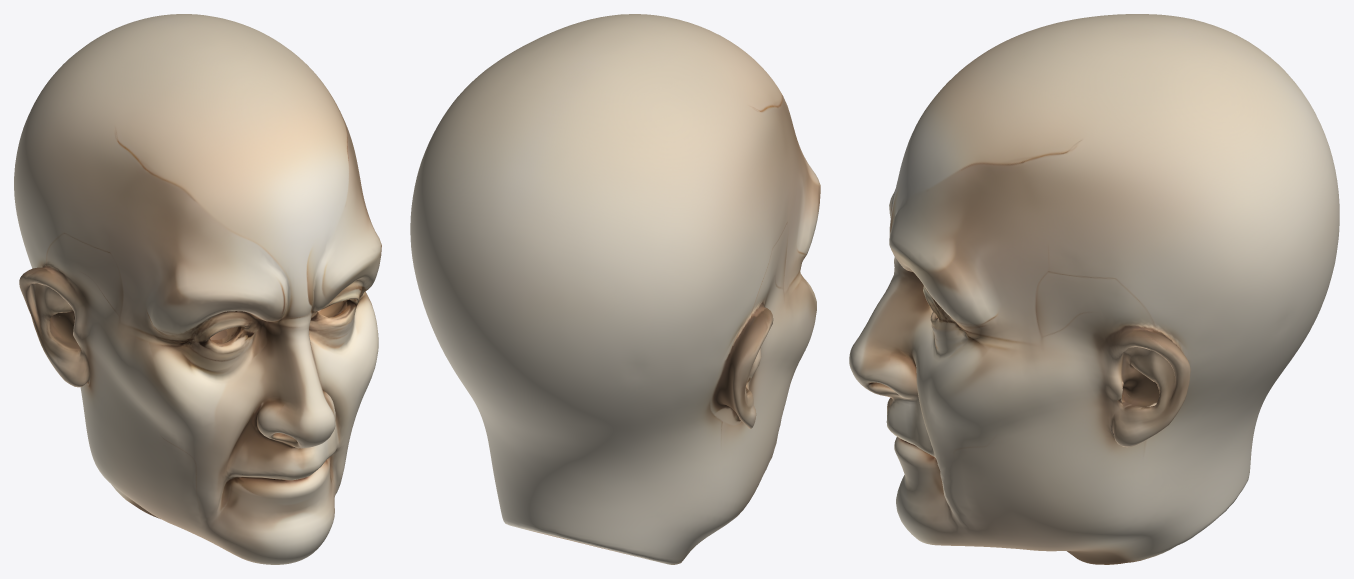
File: head.glb
3 views of the same model, side by side, from view 1: azimuth 30°, elevation 25°; view 2: azimuth 150°, elevation 25°; view 3: azimuth 270°, elevation 25° (orthographic). The views are drawn at different scales.
Parts seen in each view (by area): view 1: model; view 2: model; view 3: model.
Boxes of the visible parts, bbox=[...] form: model: bbox=[14, 14, 381, 564]; model: bbox=[410, 14, 820, 564]; model: bbox=[849, 14, 1339, 564].
Size of the model in its own units: 1.29 by 1.91 by 1.62.
1 material, 1 textured.
